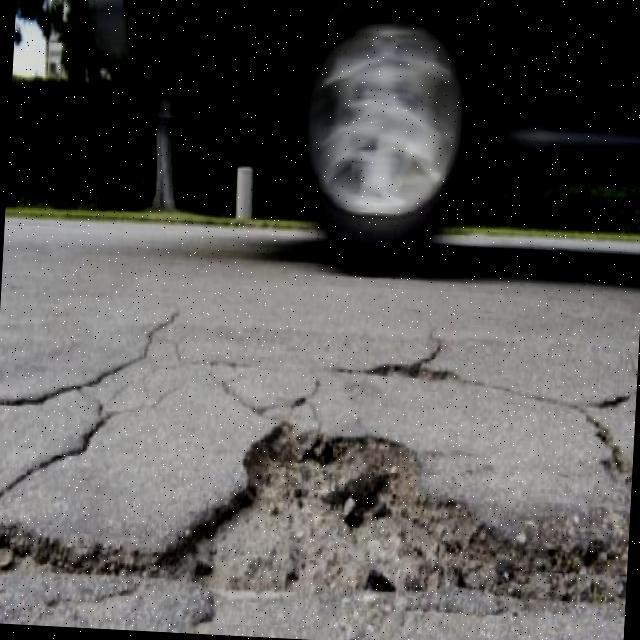Pothole: (0, 423, 629, 640)
